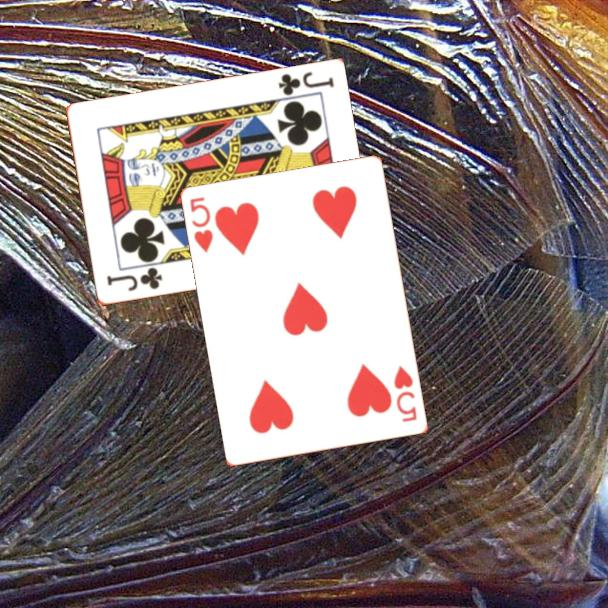c11: (103, 264, 165, 295), (274, 68, 336, 99)
h05: (391, 362, 420, 425), (187, 193, 216, 256)
